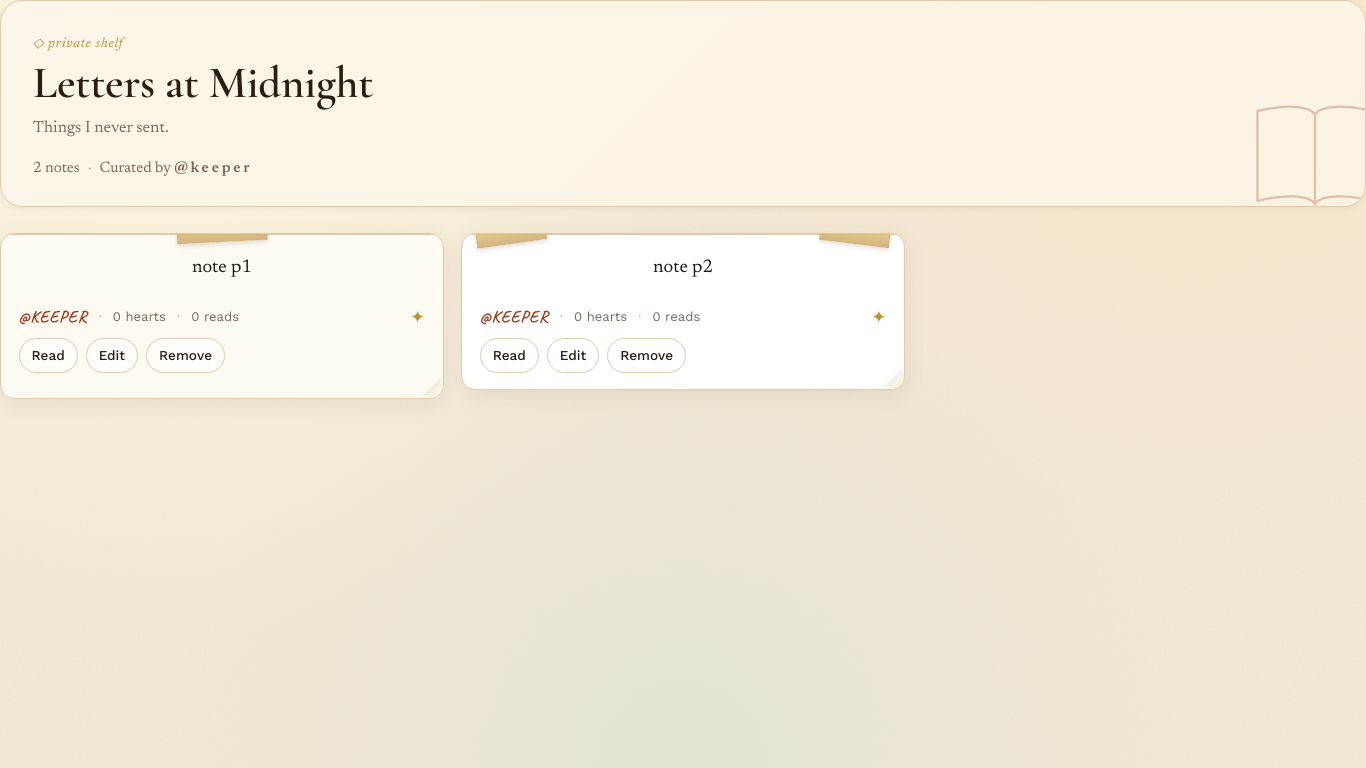
CollectionDetailPage › removes a note from the shelf and confirms it, dropping the note count
Expected: the text "note p1" is shown, top-left (192, 258), bottom-right (252, 277)
Click the button "Remove" below "note p1": (186, 356) top-left (146, 338), bottom-right (225, 373)
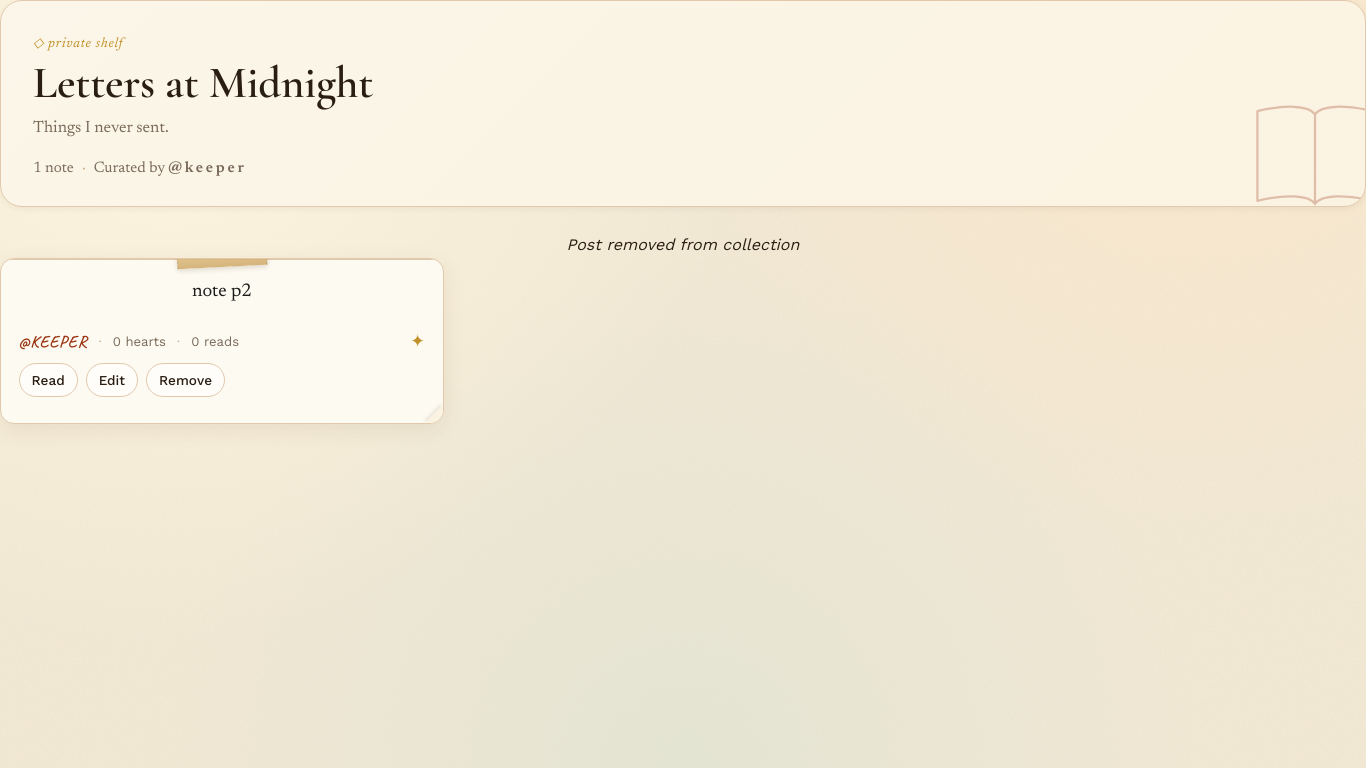
Expected: the text "Post removed from collection" is shown, top-left (567, 235), bottom-right (799, 254)
Expected: the text "note p1" is gone
Expected: the text "1 note" is shown, top-left (33, 157), bottom-right (74, 181)
